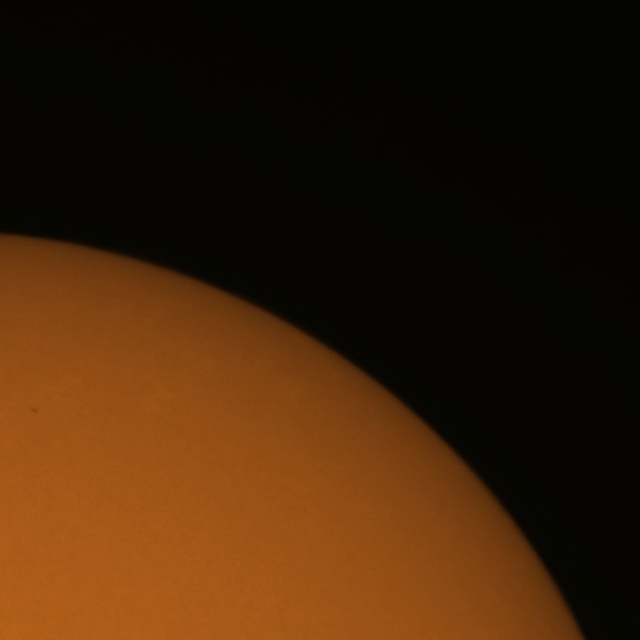sunspot: (29, 406, 39, 416)
